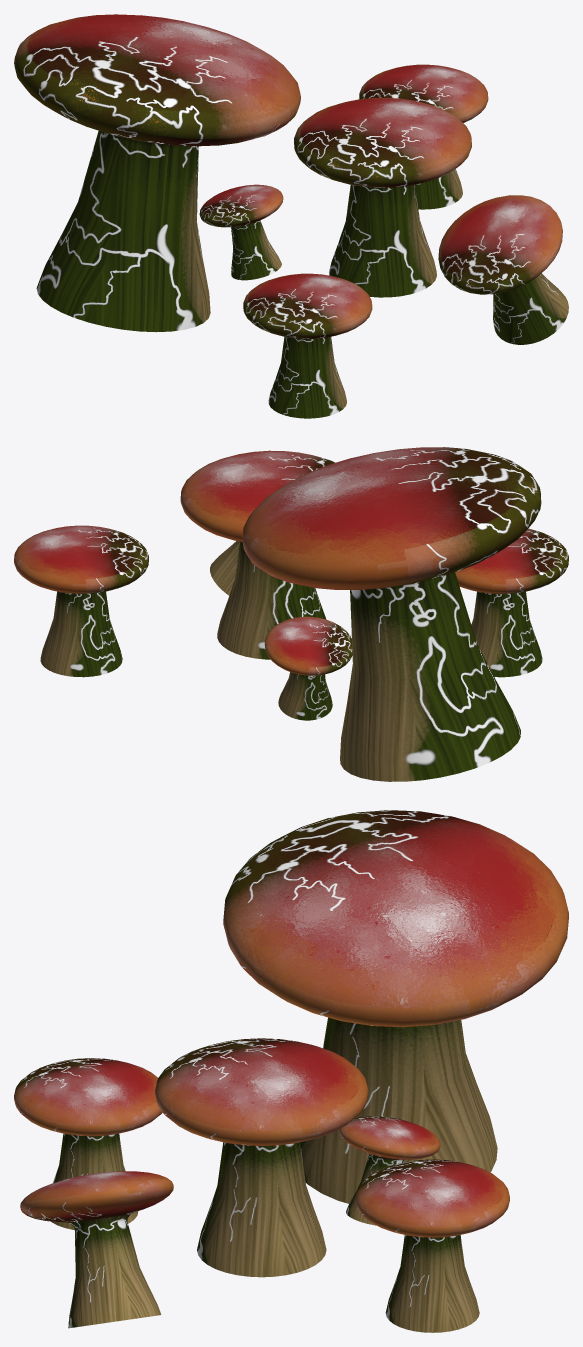
Rendered from mushroom2.fbx.
The picture shows the model from 3 angles, top to bottom: view 1: azimuth 30°, elevation 25°; view 2: azimuth 150°, elevation 25°; view 3: azimuth 270°, elevation 25°; orthographic projection. The views are drawn at different scales.
Visible parts, largest first — view 1: mushrooms.001; view 2: mushrooms.001; view 3: mushrooms.001.
Boxes of the visible parts, box(x1,y1,x2,y2) form: mushrooms.001: box(14, 14, 568, 418); mushrooms.001: box(14, 447, 568, 781); mushrooms.001: box(14, 810, 568, 1332).
Size of the model in its own units: 73.59 by 42.54 by 64.15.
